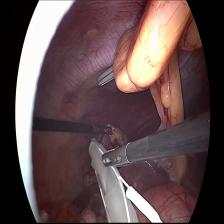Grasper: (100, 145, 130, 168), (97, 67, 117, 89), (93, 127, 113, 135)
Specimen Bag: (90, 145, 120, 224)
